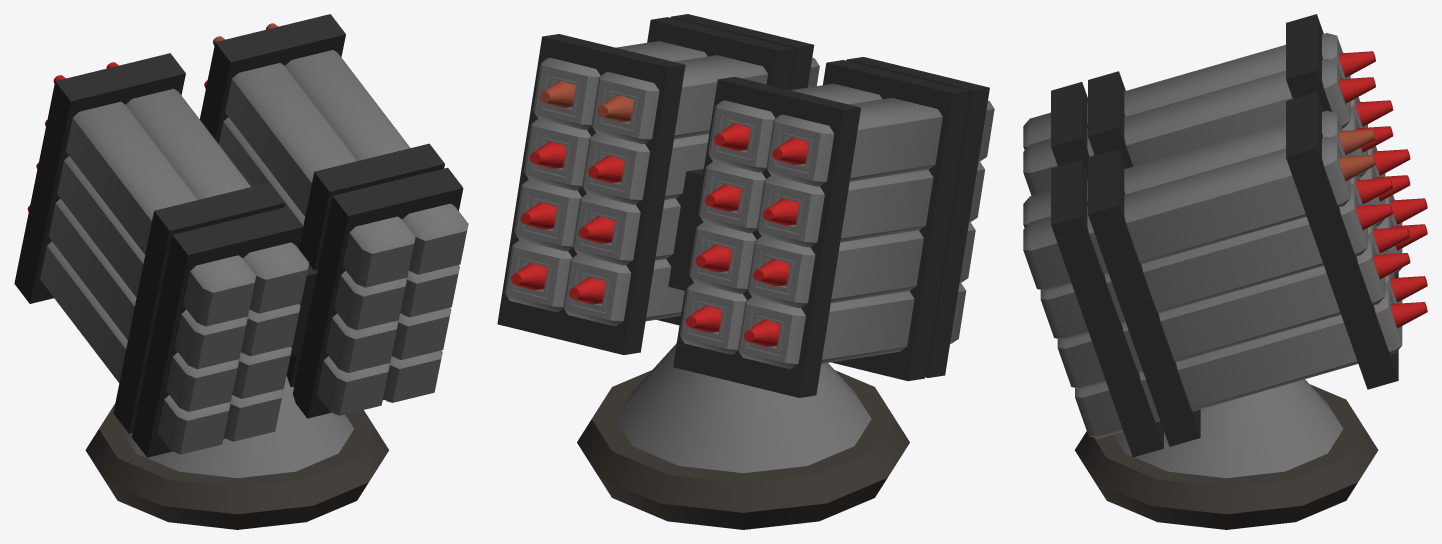
File: tower_8.fbx
3 renders of one model, left to right at view 1: azimuth 30°, elevation 25°; view 2: azimuth 150°, elevation 25°; view 3: azimuth 270°, elevation 25°, orthographic. The views are drawn at different scales.
Visible parts, largest first — view 1: 圆环_1; view 2: 圆环_1; view 3: 圆环_1.
Part boxes in pixels (x1,y1,x2,y2): 圆环_1: (14, 14, 468, 529); 圆环_1: (497, 14, 994, 529); 圆环_1: (1023, 14, 1427, 529).
Bounding box in the file's own units: 51.62 × 69.98 × 65.65.
